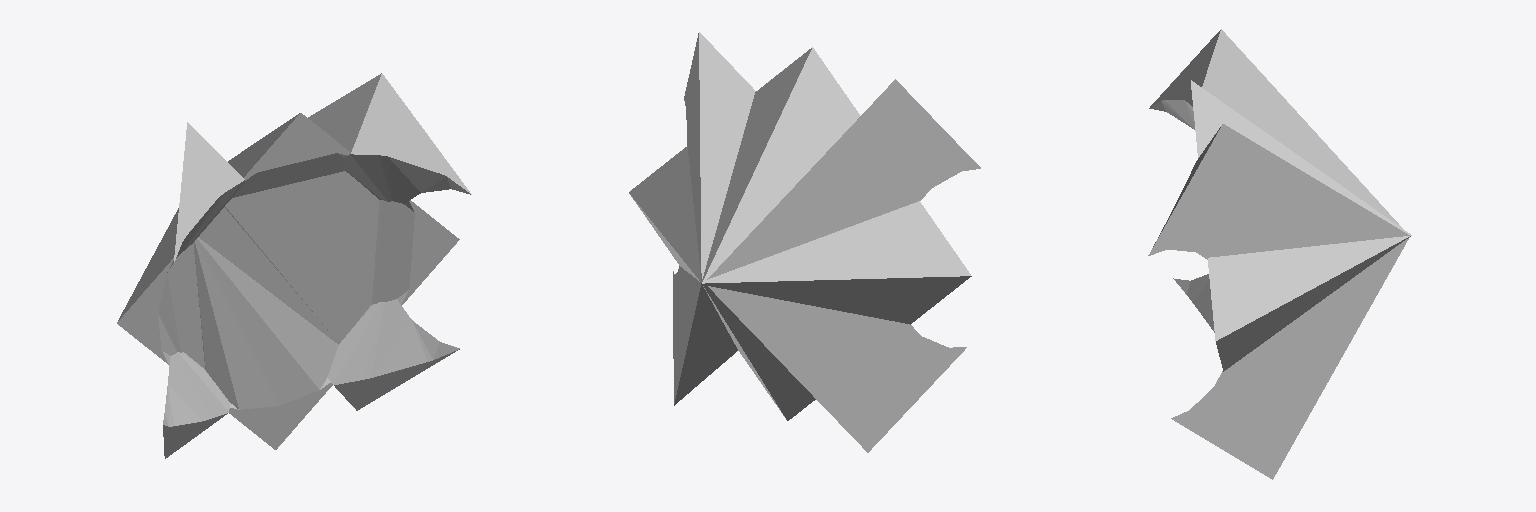
Rendered from Bonus_invincible.obj.
3 views of the same model, side by side, from view 1: azimuth 30°, elevation 25°; view 2: azimuth 150°, elevation 25°; view 3: azimuth 270°, elevation 25° (orthographic).
Visible parts, largest first — view 1: pSphere2; view 2: pSphere2; view 3: pSphere2.
Part boxes in pixels (left/top/right/bottom): pSphere2: left=117, top=73, right=471, bottom=458; pSphere2: left=629, top=32, right=980, bottom=452; pSphere2: left=1148, top=29, right=1411, bottom=479.
Size of the model in its own units: 1.41 by 1.42 by 0.9429.